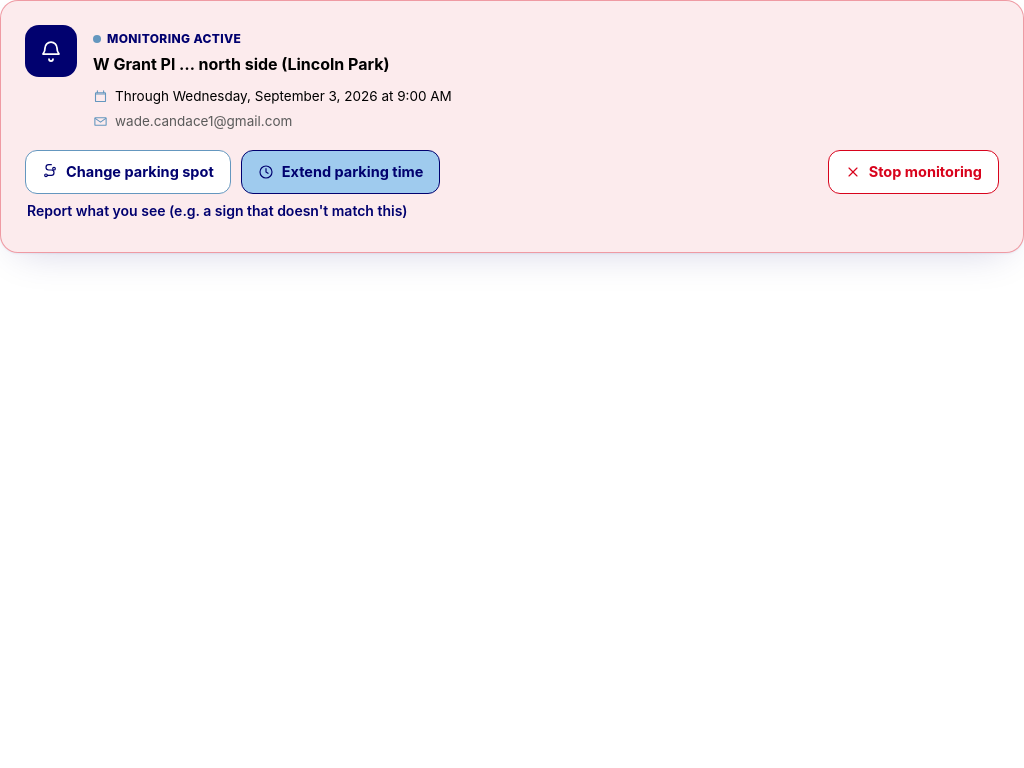
Test: MonitorBanner › reporting what you see replaces the idle actions with the active report
Click the button "Report what you see (e.g. a sign that doesn't match this)": (217,211) [25,194,410,228]
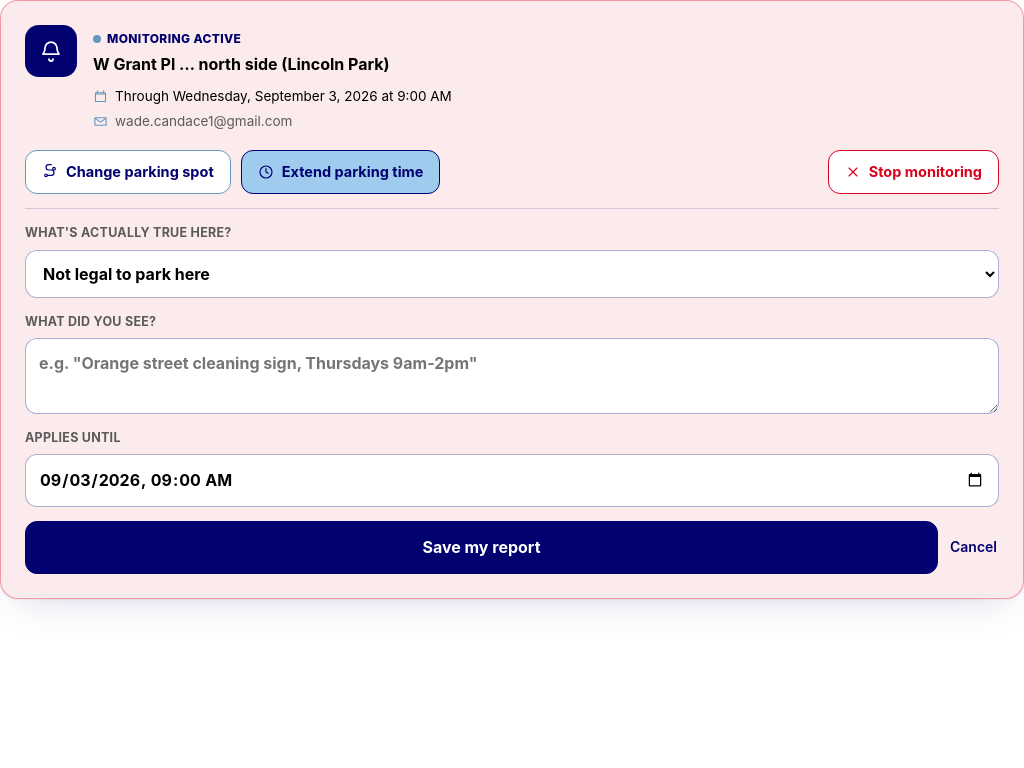
In the text box with placeholder "e.g. \"Orange street cleaning sign, Thursdays 9am-2pm\"": (512,376) [25,338,999,414], type "Orange sign posted"
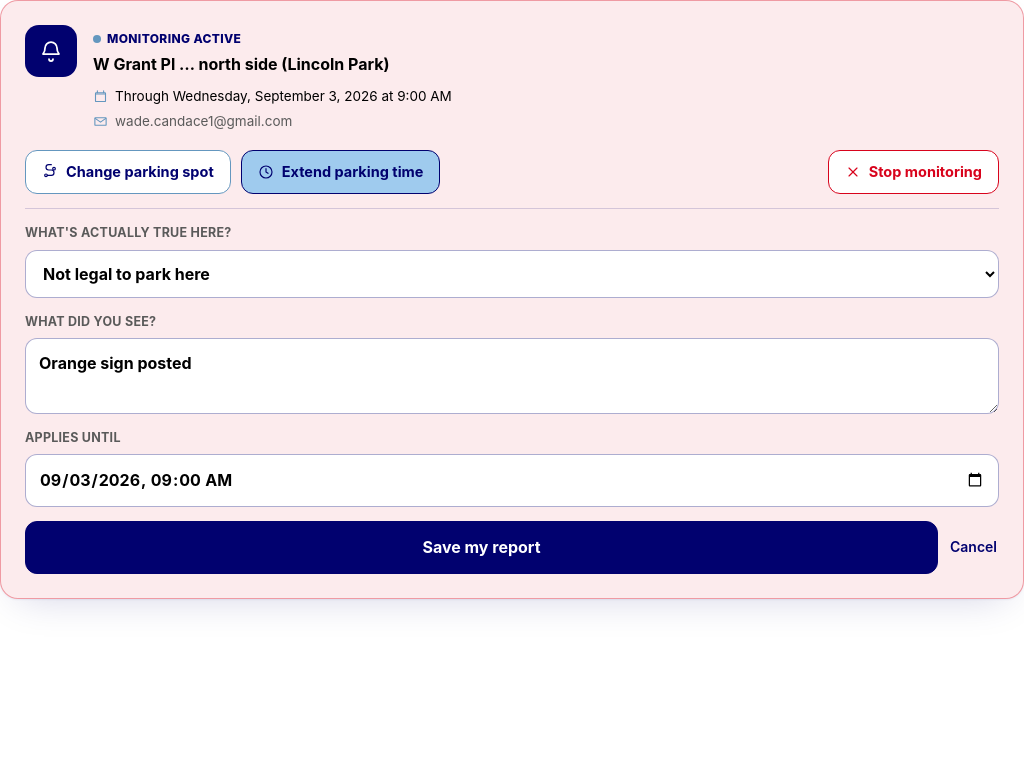
Replace the text in the field labelled "Applies until" with "2026-09-15T10:00": (512,480) [25,454,999,507]
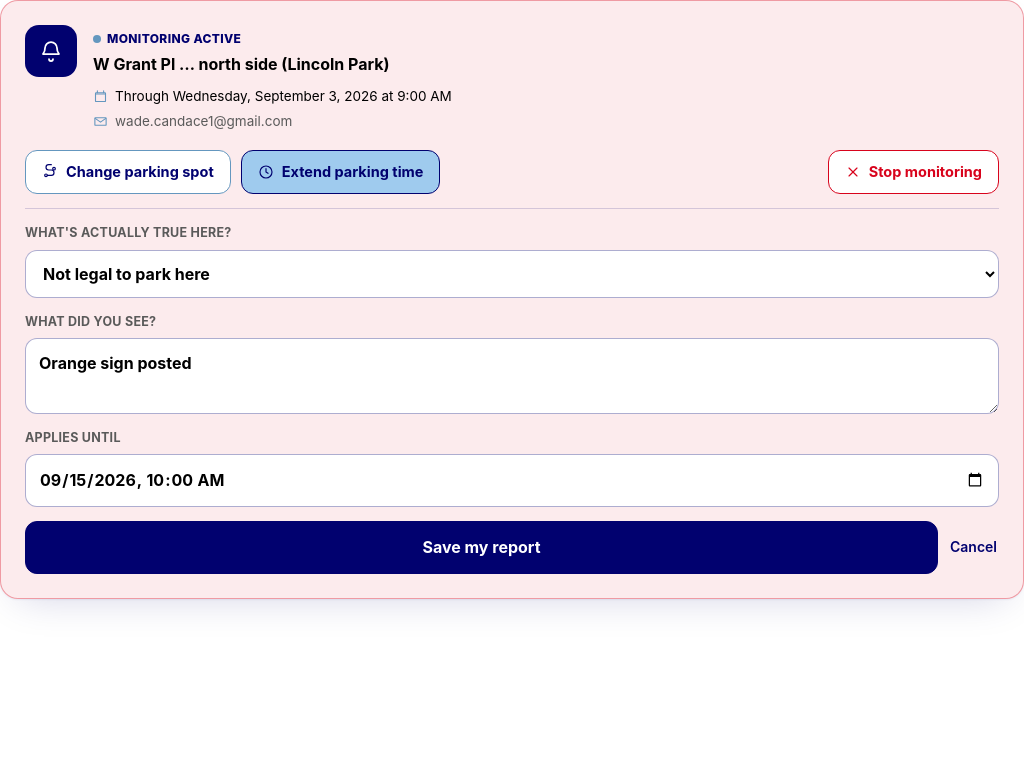
Click the button "Save my report": (482,547) [25,521,938,574]
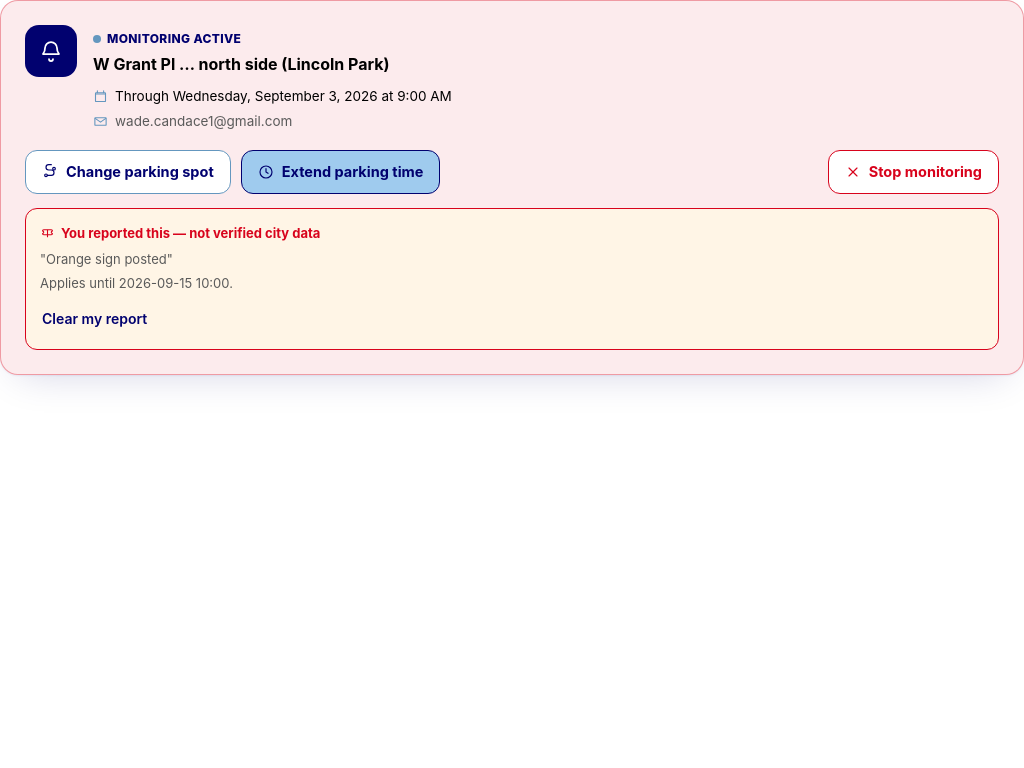
Now the text "You reported this — not verified city data" is shown, box [40,225,320,241]
Now the text "\"Orange sign posted\"" is shown, box [40,251,173,267]
